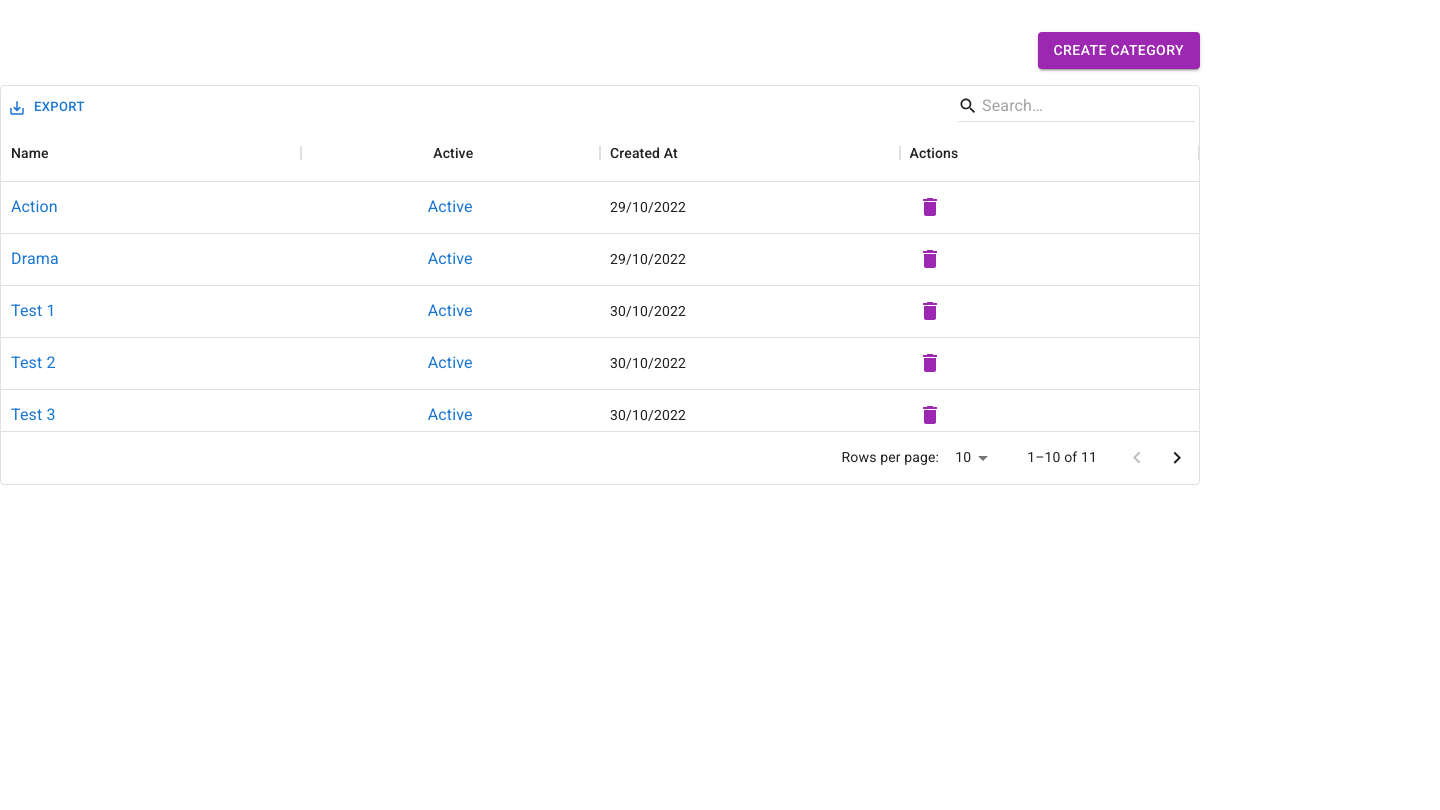
Test case: ListCategory › should handle Delete Category success
The width and height of the screenshot is (1440, 810).
Expected: the text "Action" is shown, [11,195,58,219]
Click the 1st button with test id "delete-button" at (930, 207), box [910,187,950,227]
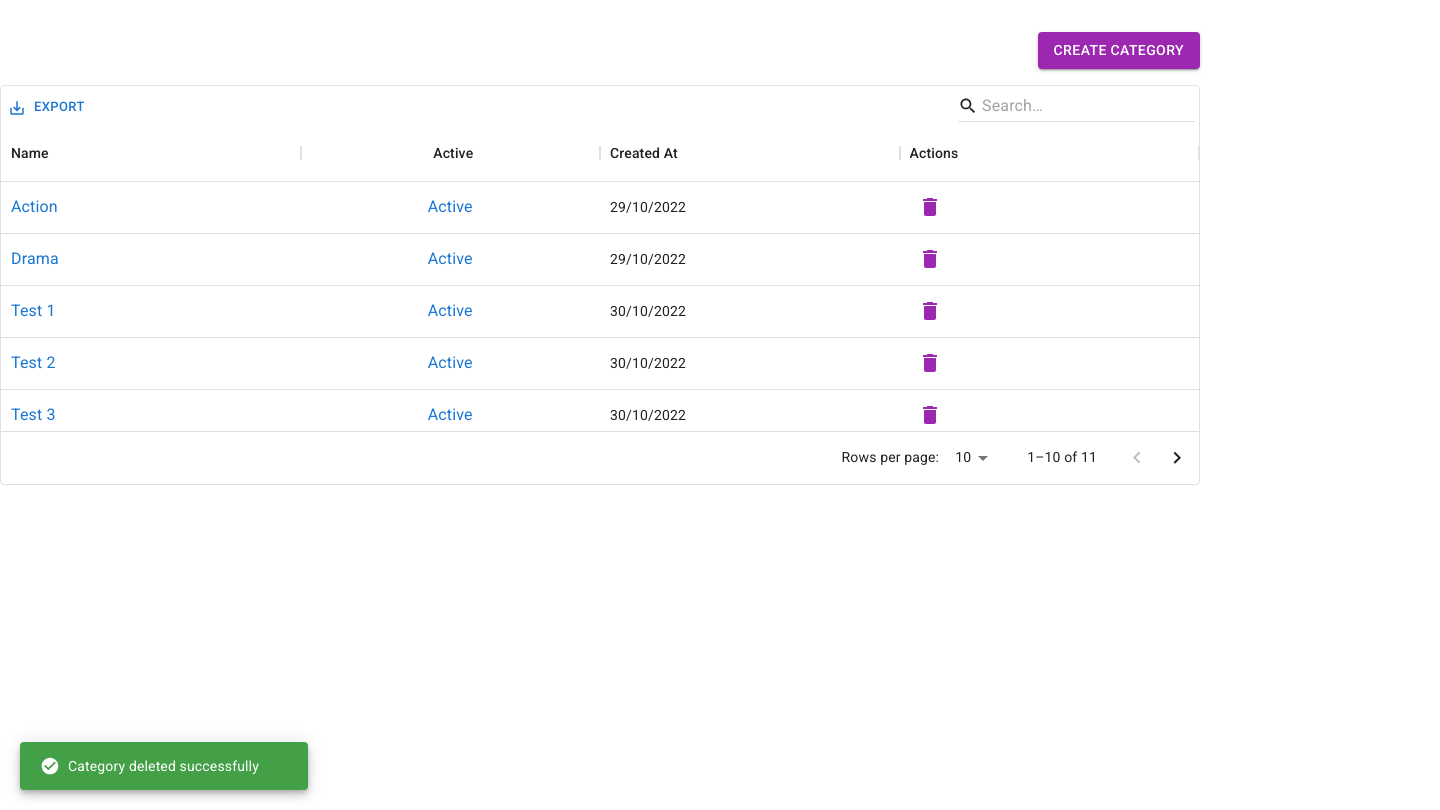
Result: the text "Category deleted successfully" is shown at [40,756,259,776]
